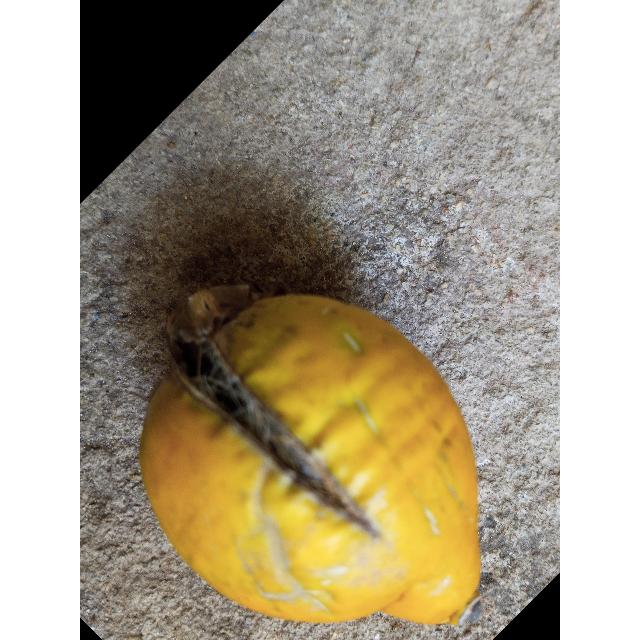damaged: (140, 284, 480, 625)
